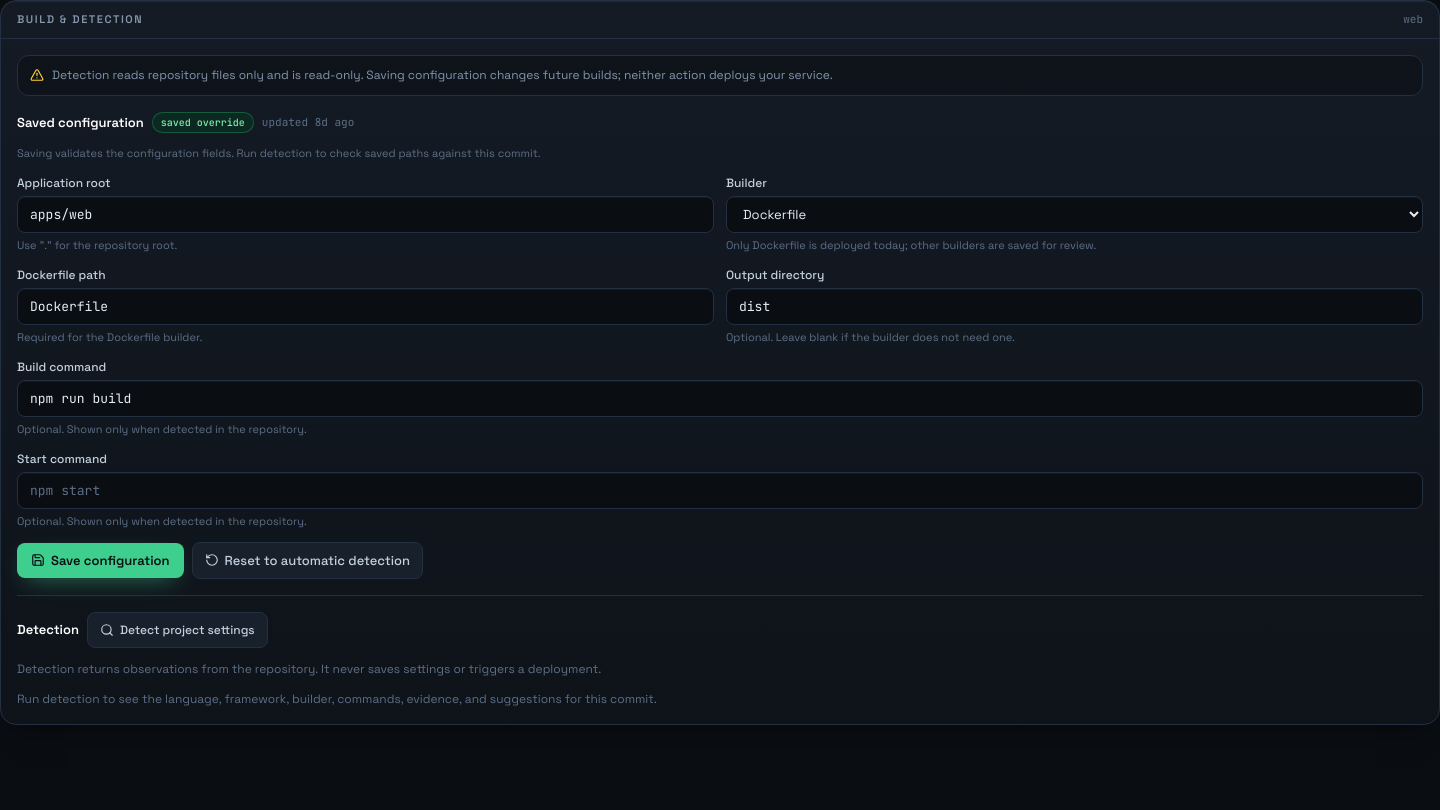
Scenario: BuildConfigPanel › renders an unsupported detection result
Expected: the field showing "apps/web" is shown, [17, 196, 714, 233]
Click the button "Detect project settings": {"x": 177, "y": 630} [87, 612, 268, 648]
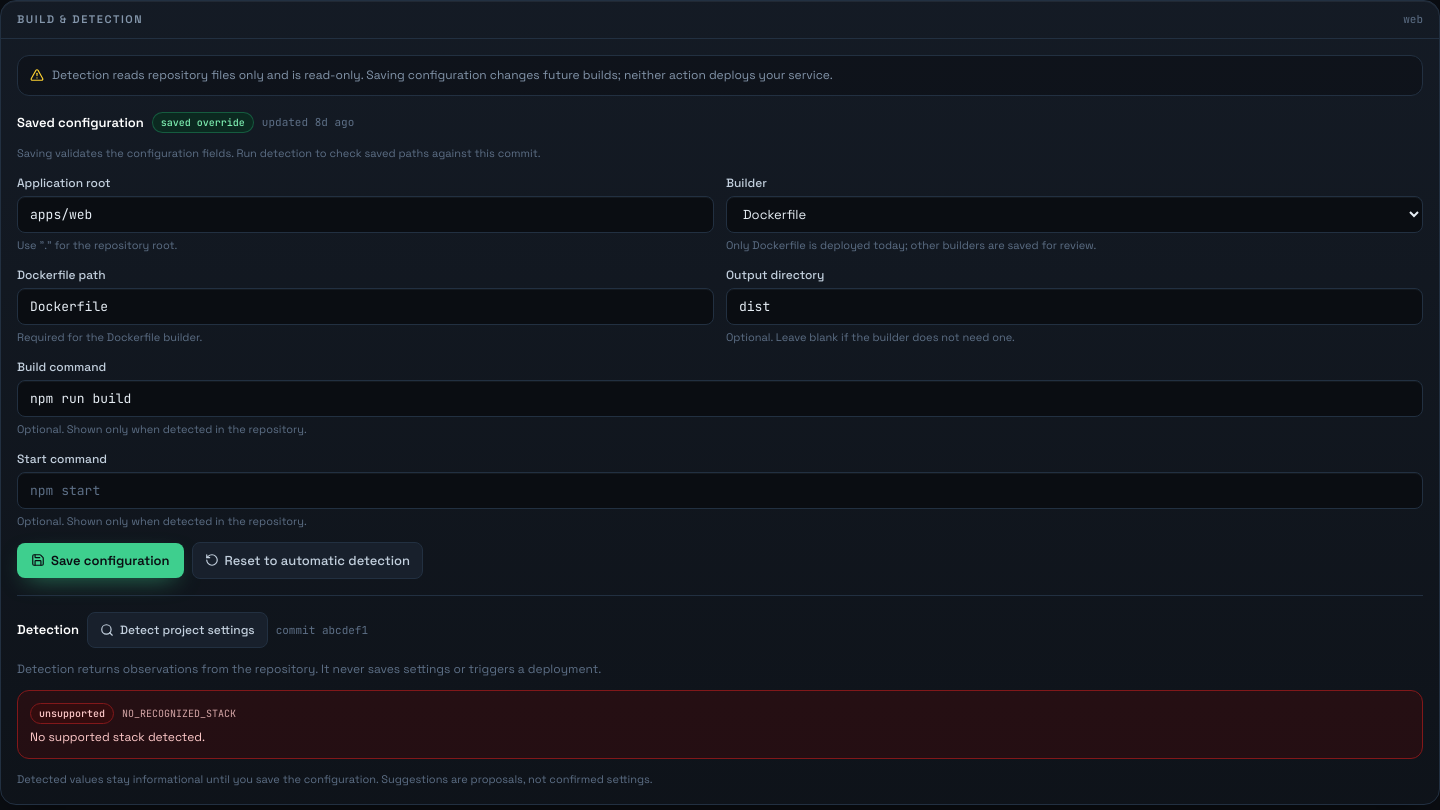
Now the text "No supported stack detected." is shown, box [30, 729, 205, 745]
Now the text "NO_RECOGNIZED_STACK" is shown, box [122, 706, 236, 721]
